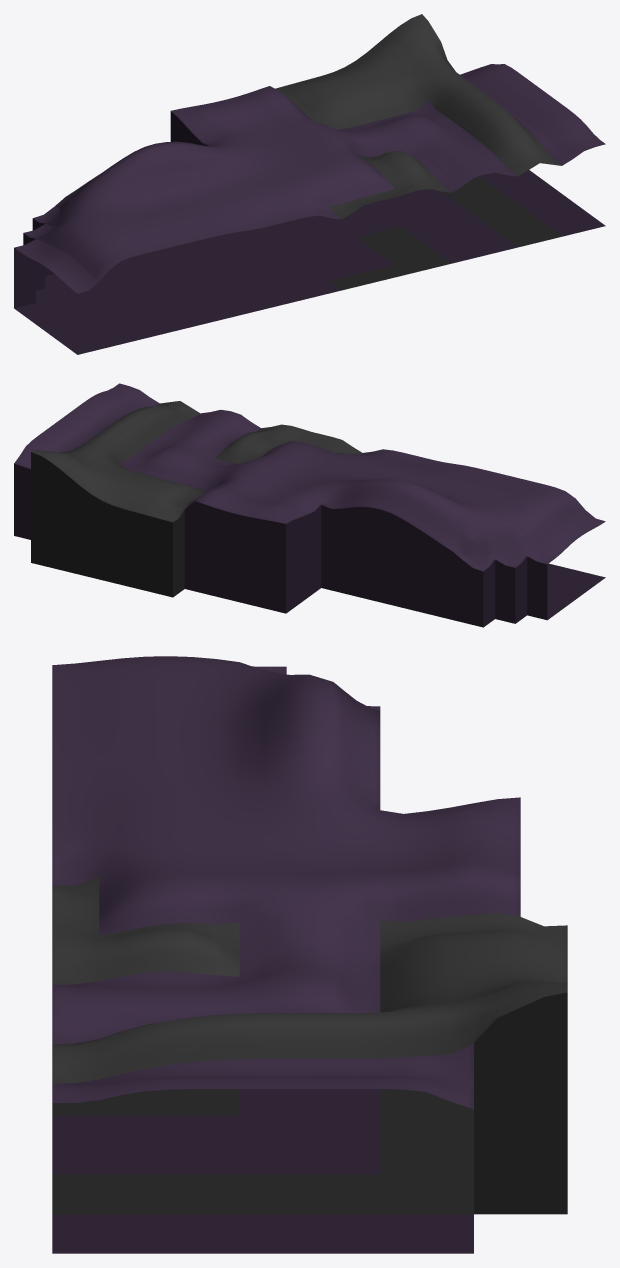
The model's file is delbld-hull-565.glb.
3 renders of one model, top to bottom at view 1: azimuth 30°, elevation 25°; view 2: azimuth 150°, elevation 25°; view 3: azimuth 270°, elevation 25°, orthographic. The views are drawn at different scales.
Parts seen in each view (by area): view 1: delbld-hull-565; view 2: delbld-hull-565; view 3: delbld-hull-565.
Boxes of the visible parts, x1=… form: delbld-hull-565: x1=14, y1=14, x2=605, y2=354; delbld-hull-565: x1=14, y1=383, x2=605, y2=627; delbld-hull-565: x1=52, y1=656, x2=567, y2=1253.
Bounding box in the file's own units: 2 × 0.4355 × 0.9167.
2 materials, 2 textured.
